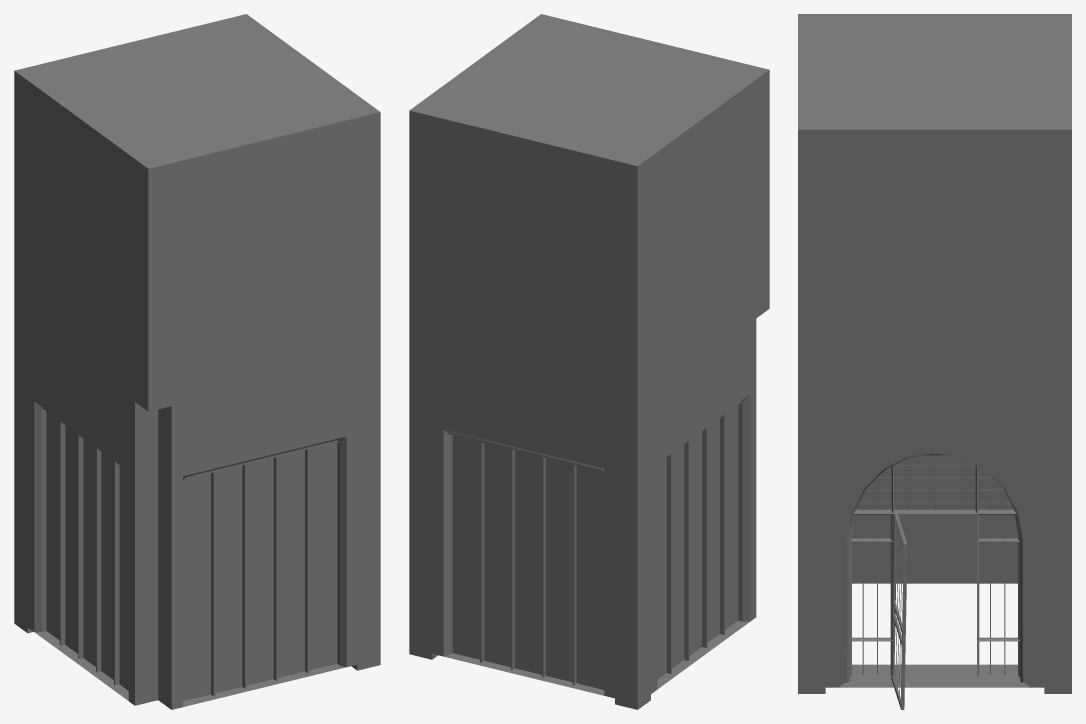
Rendered from tesla_structure_platform_house_01.dae.
3 renders of one model, left to right at view 1: azimuth 30°, elevation 25°; view 2: azimuth 150°, elevation 25°; view 3: azimuth 270°, elevation 25°, orthographic. The views are drawn at different scales.
Parts seen in each view (by area): view 1: polySurface472; view 2: polySurface472; view 3: polySurface472.
Boxes of the visible parts, <box> form: polySurface472: <box>14,14,380,709</box>; polySurface472: <box>409,14,769,709</box>; polySurface472: <box>798,14,1071,709</box>.
Size of the model in its own units: 6023 by 11375 by 5000.
